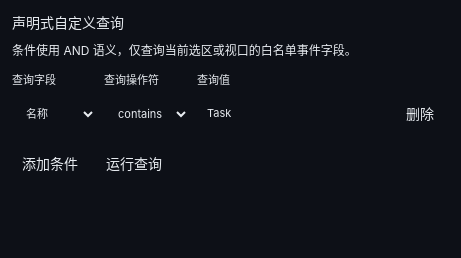
Test: CustomQueryPanel › supports empty results and adding or deleting bounded clauses
The image size is (461, 258).
Click the button with aria-label "添加查询条件". click: x=50, y=164
box: [12, 144, 88, 184]
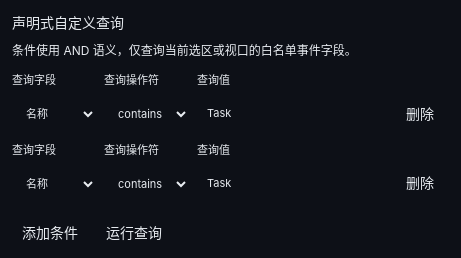
Now the number of dropdowns labelled "查询字段" is 2, box [12, 94, 96, 134]; [12, 164, 96, 204]
Click the button with aria-label "删除查询条件". click: x=420, y=184
box: [396, 164, 444, 204]
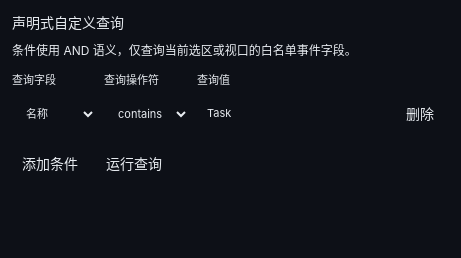
Now the number of dropdowns labelled "查询字段" is 1, box [12, 94, 96, 134]
Click the button with aria-label "运行自定义查询". click: x=134, y=164
box: [96, 144, 172, 184]
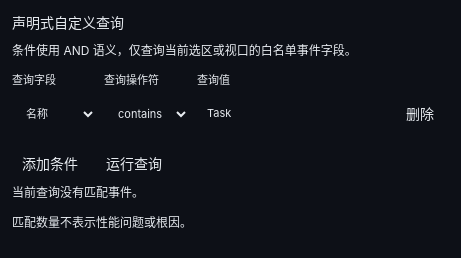
Now the text "当前查询没有匹配事件。" is shown, box [12, 185, 144, 200]
